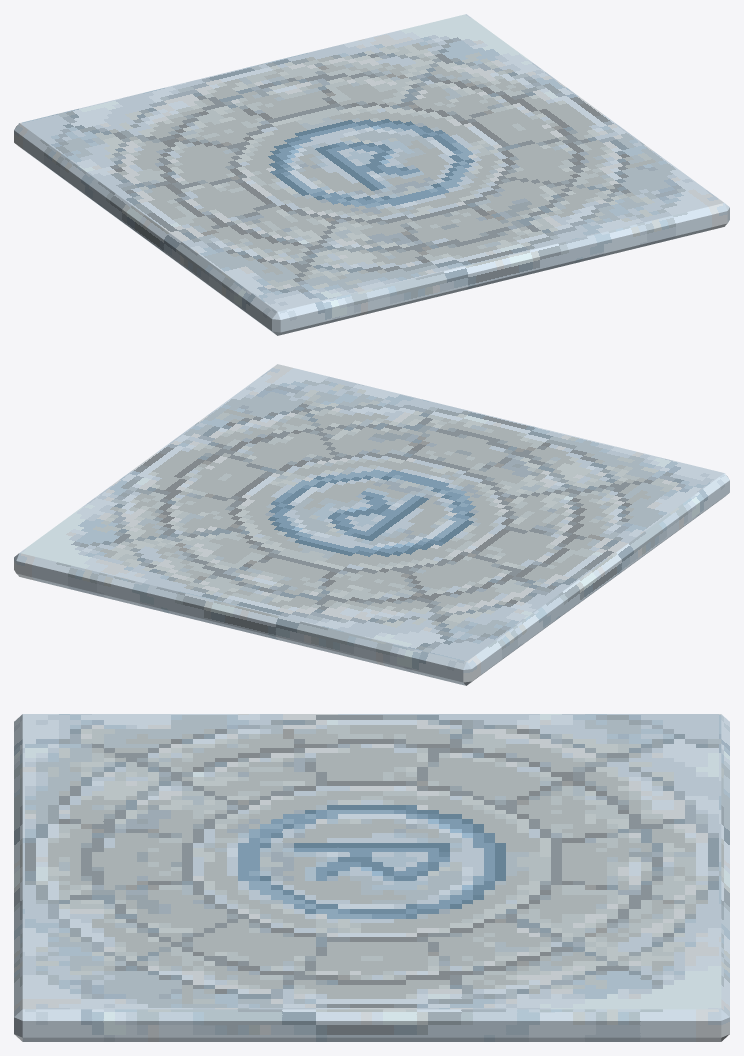
File: topo_zona.fbx
3 renders of one model, top to bottom at view 1: azimuth 30°, elevation 25°; view 2: azimuth 150°, elevation 25°; view 3: azimuth 270°, elevation 25°, orthographic. The views are drawn at different scales.
Visible parts, largest first — view 1: neve_topo_zona; view 2: neve_topo_zona; view 3: neve_topo_zona.
Boxes of the visible parts, left/top/right/bottom form: neve_topo_zona: left=14, top=14, right=729, bottom=335; neve_topo_zona: left=14, top=364, right=729, bottom=685; neve_topo_zona: left=14, top=714, right=729, bottom=1041.
Size of the model in its own units: 100 by 5 by 100.
1 material, 1 textured.
